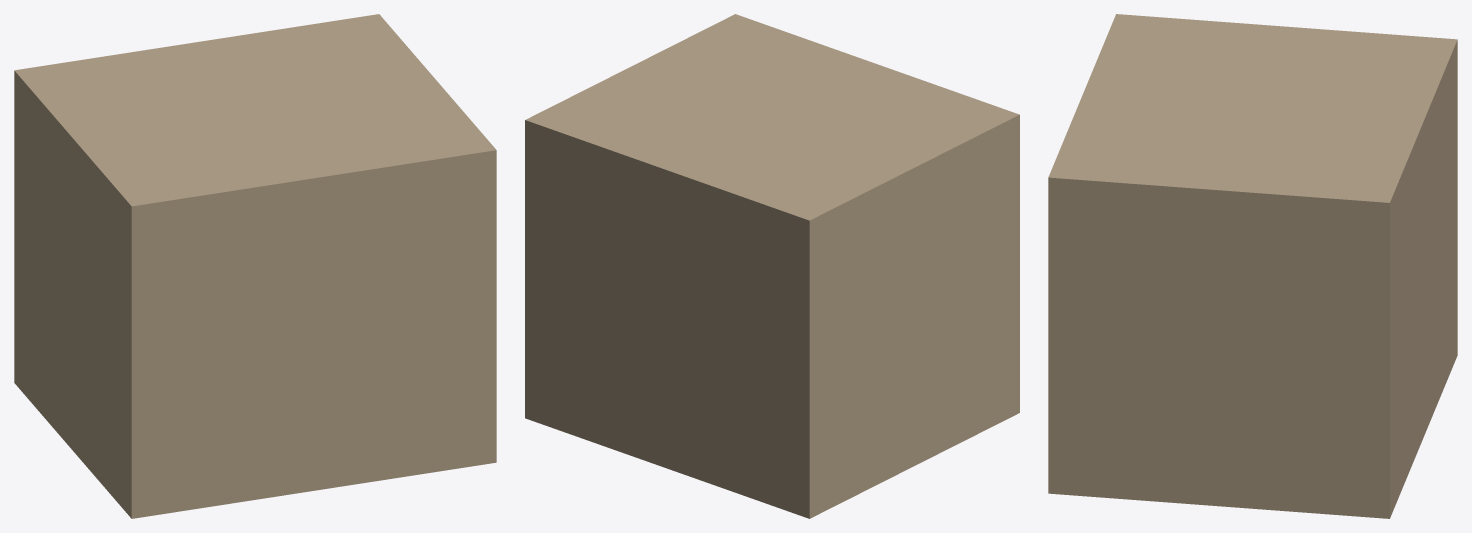
Rendered from bld_100469329.dae.
3 renders of one model, left to right at view 1: azimuth 30°, elevation 25°; view 2: azimuth 150°, elevation 25°; view 3: azimuth 270°, elevation 25°, orthographic. The views are drawn at different scales.
Visible parts, largest first — view 1: bld_100469329; view 2: bld_100469329; view 3: bld_100469329.
Part boxes in pixels (x1=…): bld_100469329: x1=14, y1=14, x2=496, y2=518; bld_100469329: x1=525, y1=14, x2=1019, y2=518; bld_100469329: x1=1048, y1=14, x2=1457, y2=518.
Size of the model in its own units: 10.26 by 9.39 by 8.
